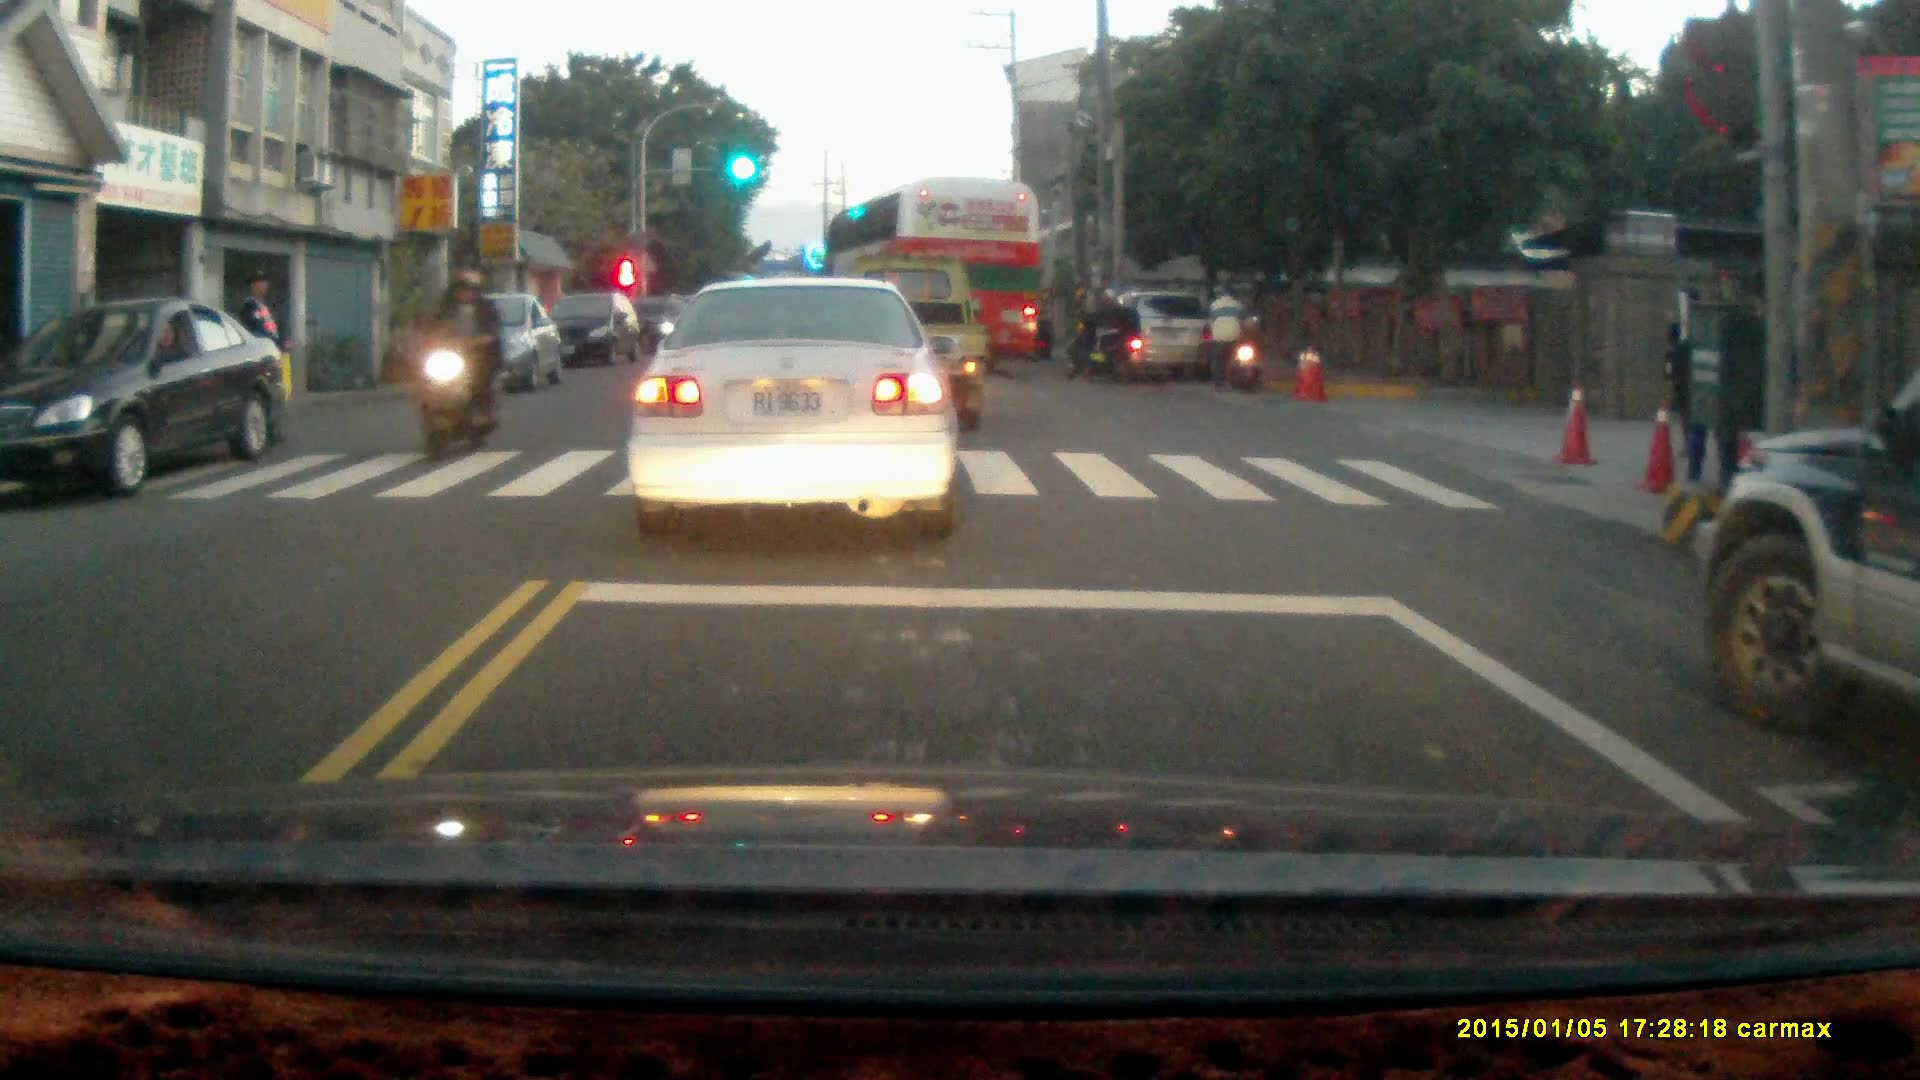pedestrian: (1660, 285, 1711, 457), (238, 270, 287, 438)
rider: (409, 269, 506, 460), (1199, 282, 1262, 397), (1068, 284, 1138, 383)
vehicle: (624, 270, 961, 539), (1691, 384, 1920, 730), (2, 295, 295, 506), (823, 177, 1047, 384), (412, 290, 563, 400), (1094, 290, 1212, 384), (544, 296, 641, 373)
